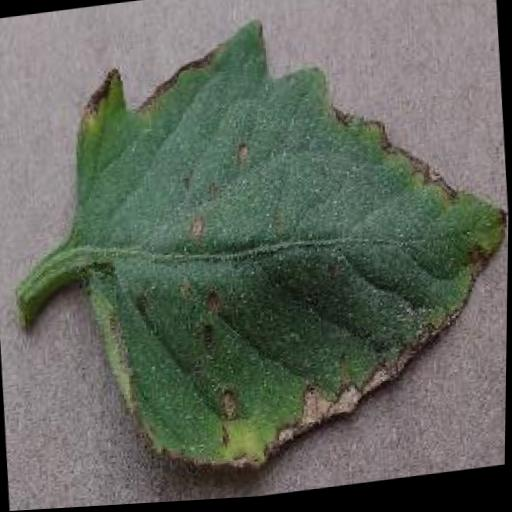Bacterial Spot: (52, 0, 512, 496)
